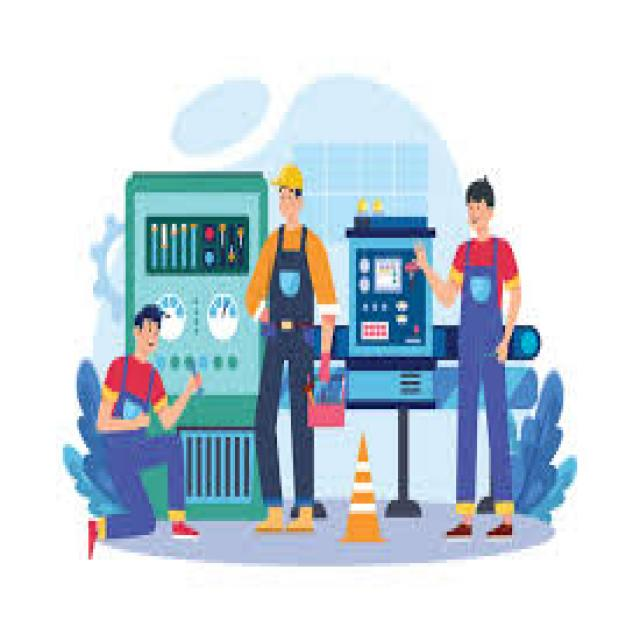Safety-Helmet: (272, 158, 307, 200)
